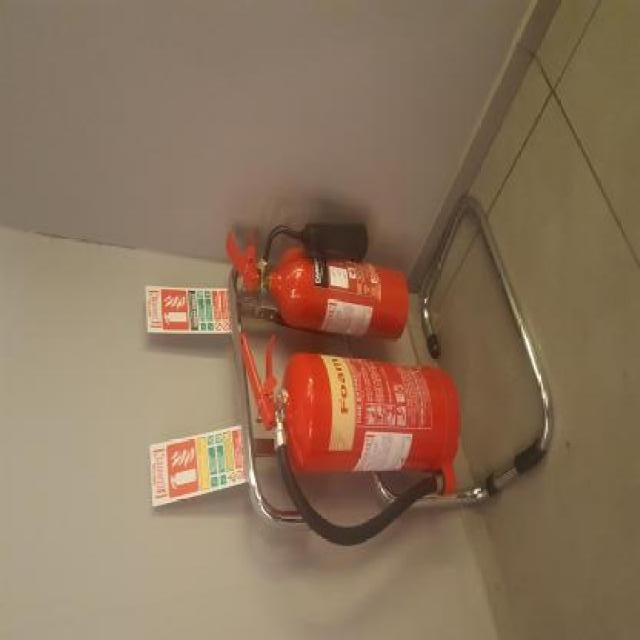fire extinguisher: (238, 329, 459, 546), (224, 211, 411, 343)
